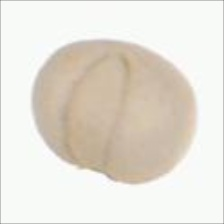L5: (64, 51, 130, 169)
L6: (29, 37, 199, 187)
